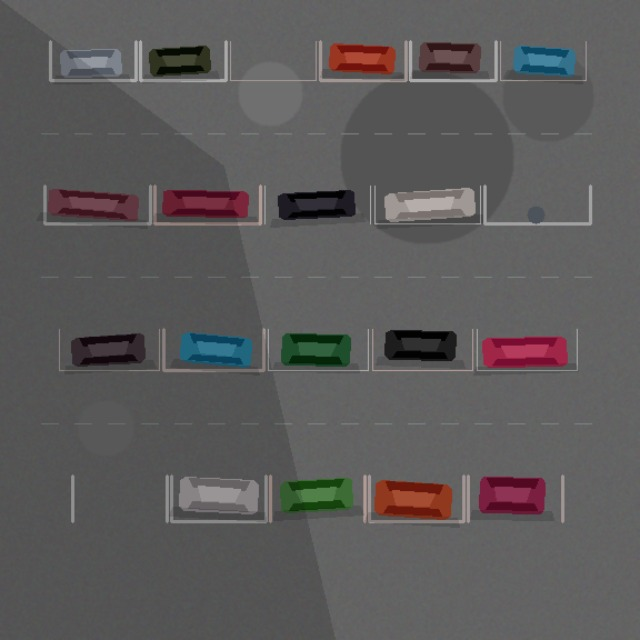space-empty: (72, 476, 167, 521), (484, 186, 590, 223), (230, 41, 316, 80)
space-occupied: (171, 476, 266, 521), (270, 476, 364, 521), (369, 476, 463, 521), (468, 476, 562, 521), (59, 329, 159, 370), (163, 329, 263, 370), (268, 329, 368, 370), (372, 329, 472, 370), (477, 329, 577, 370), (44, 186, 150, 223), (154, 186, 260, 223), (264, 186, 370, 223), (374, 186, 480, 223), (50, 41, 136, 80), (140, 41, 226, 80), (320, 41, 406, 80), (410, 41, 496, 80), (500, 41, 586, 80)
